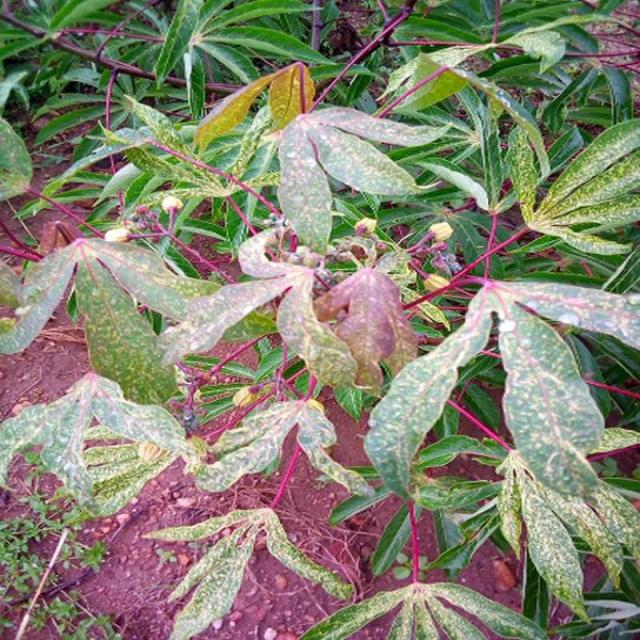cassava leaf: (0, 4, 638, 637), (495, 298, 606, 499)
